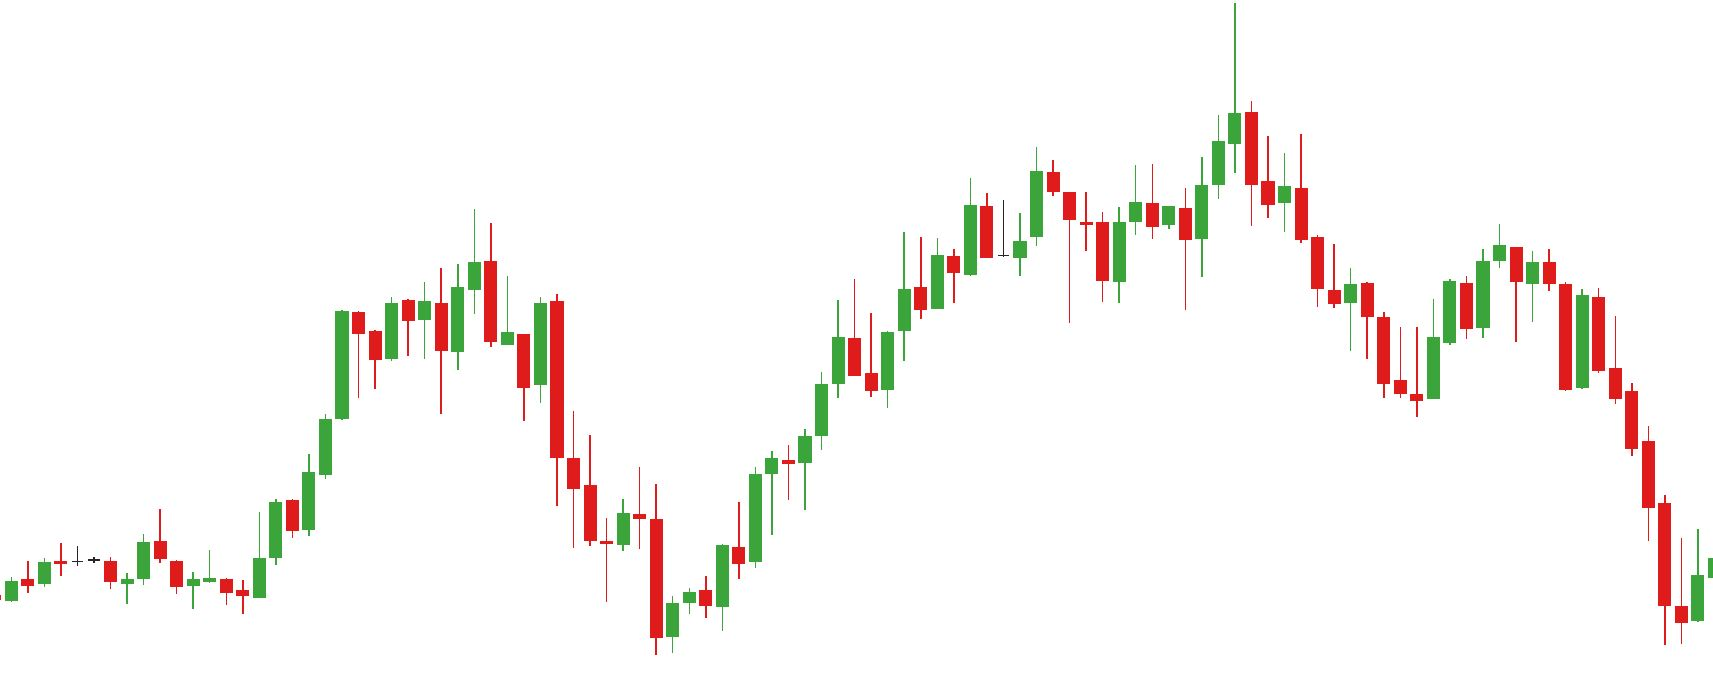sell: (1028, 33, 1260, 264)
